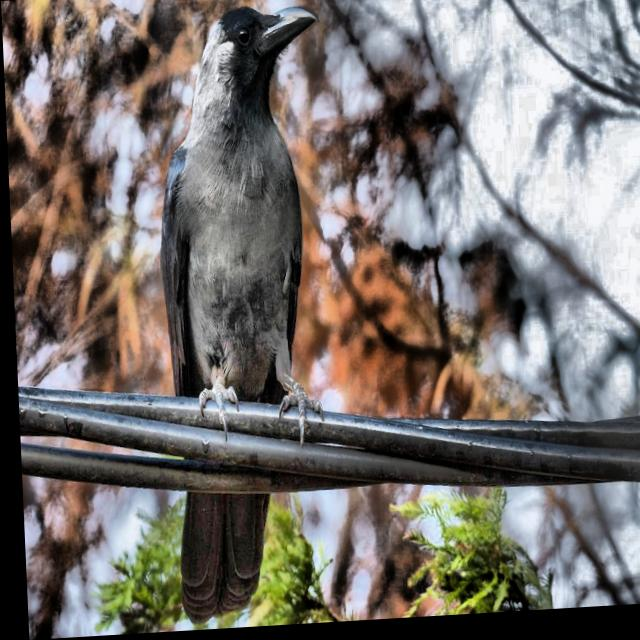crow: (117, 14, 342, 614)
